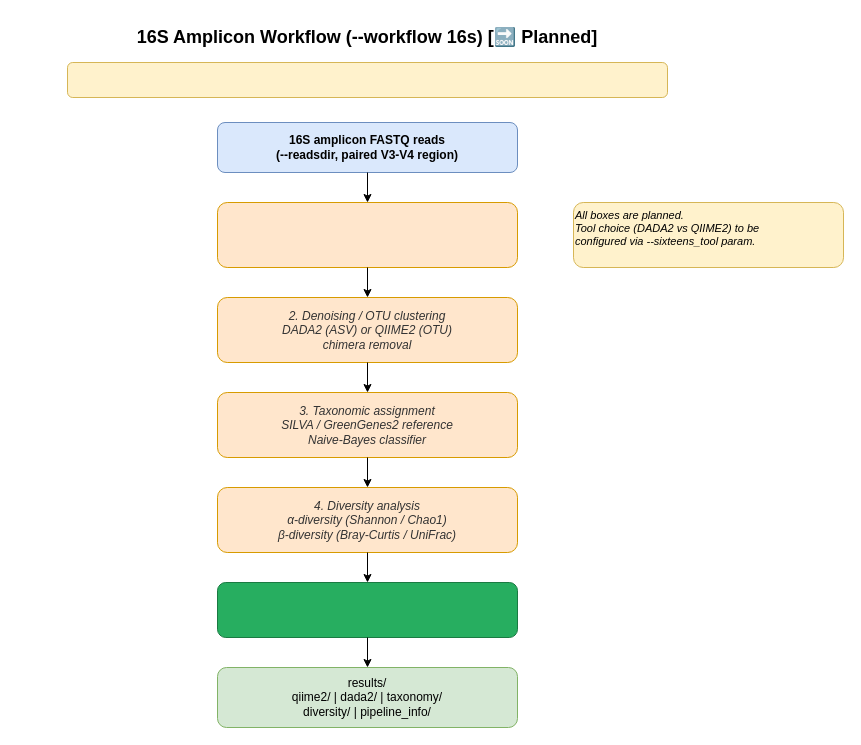
The diagram is 861 pixels wide and 745 high, and some of its shapes have lost their labels. Here are the shapes that lost their labels. From the top down, the centre of each, then its label:
At point 367,80: "Status: STUB — planned implementation using DADA2 / QIIME2".
At point 367,235: "1. Quality filtering + trimming (Trimmomatic / Cutadapt) primer removal".
At point 367,610: "5. Summary report Feature table + taxonomy bar plots".
